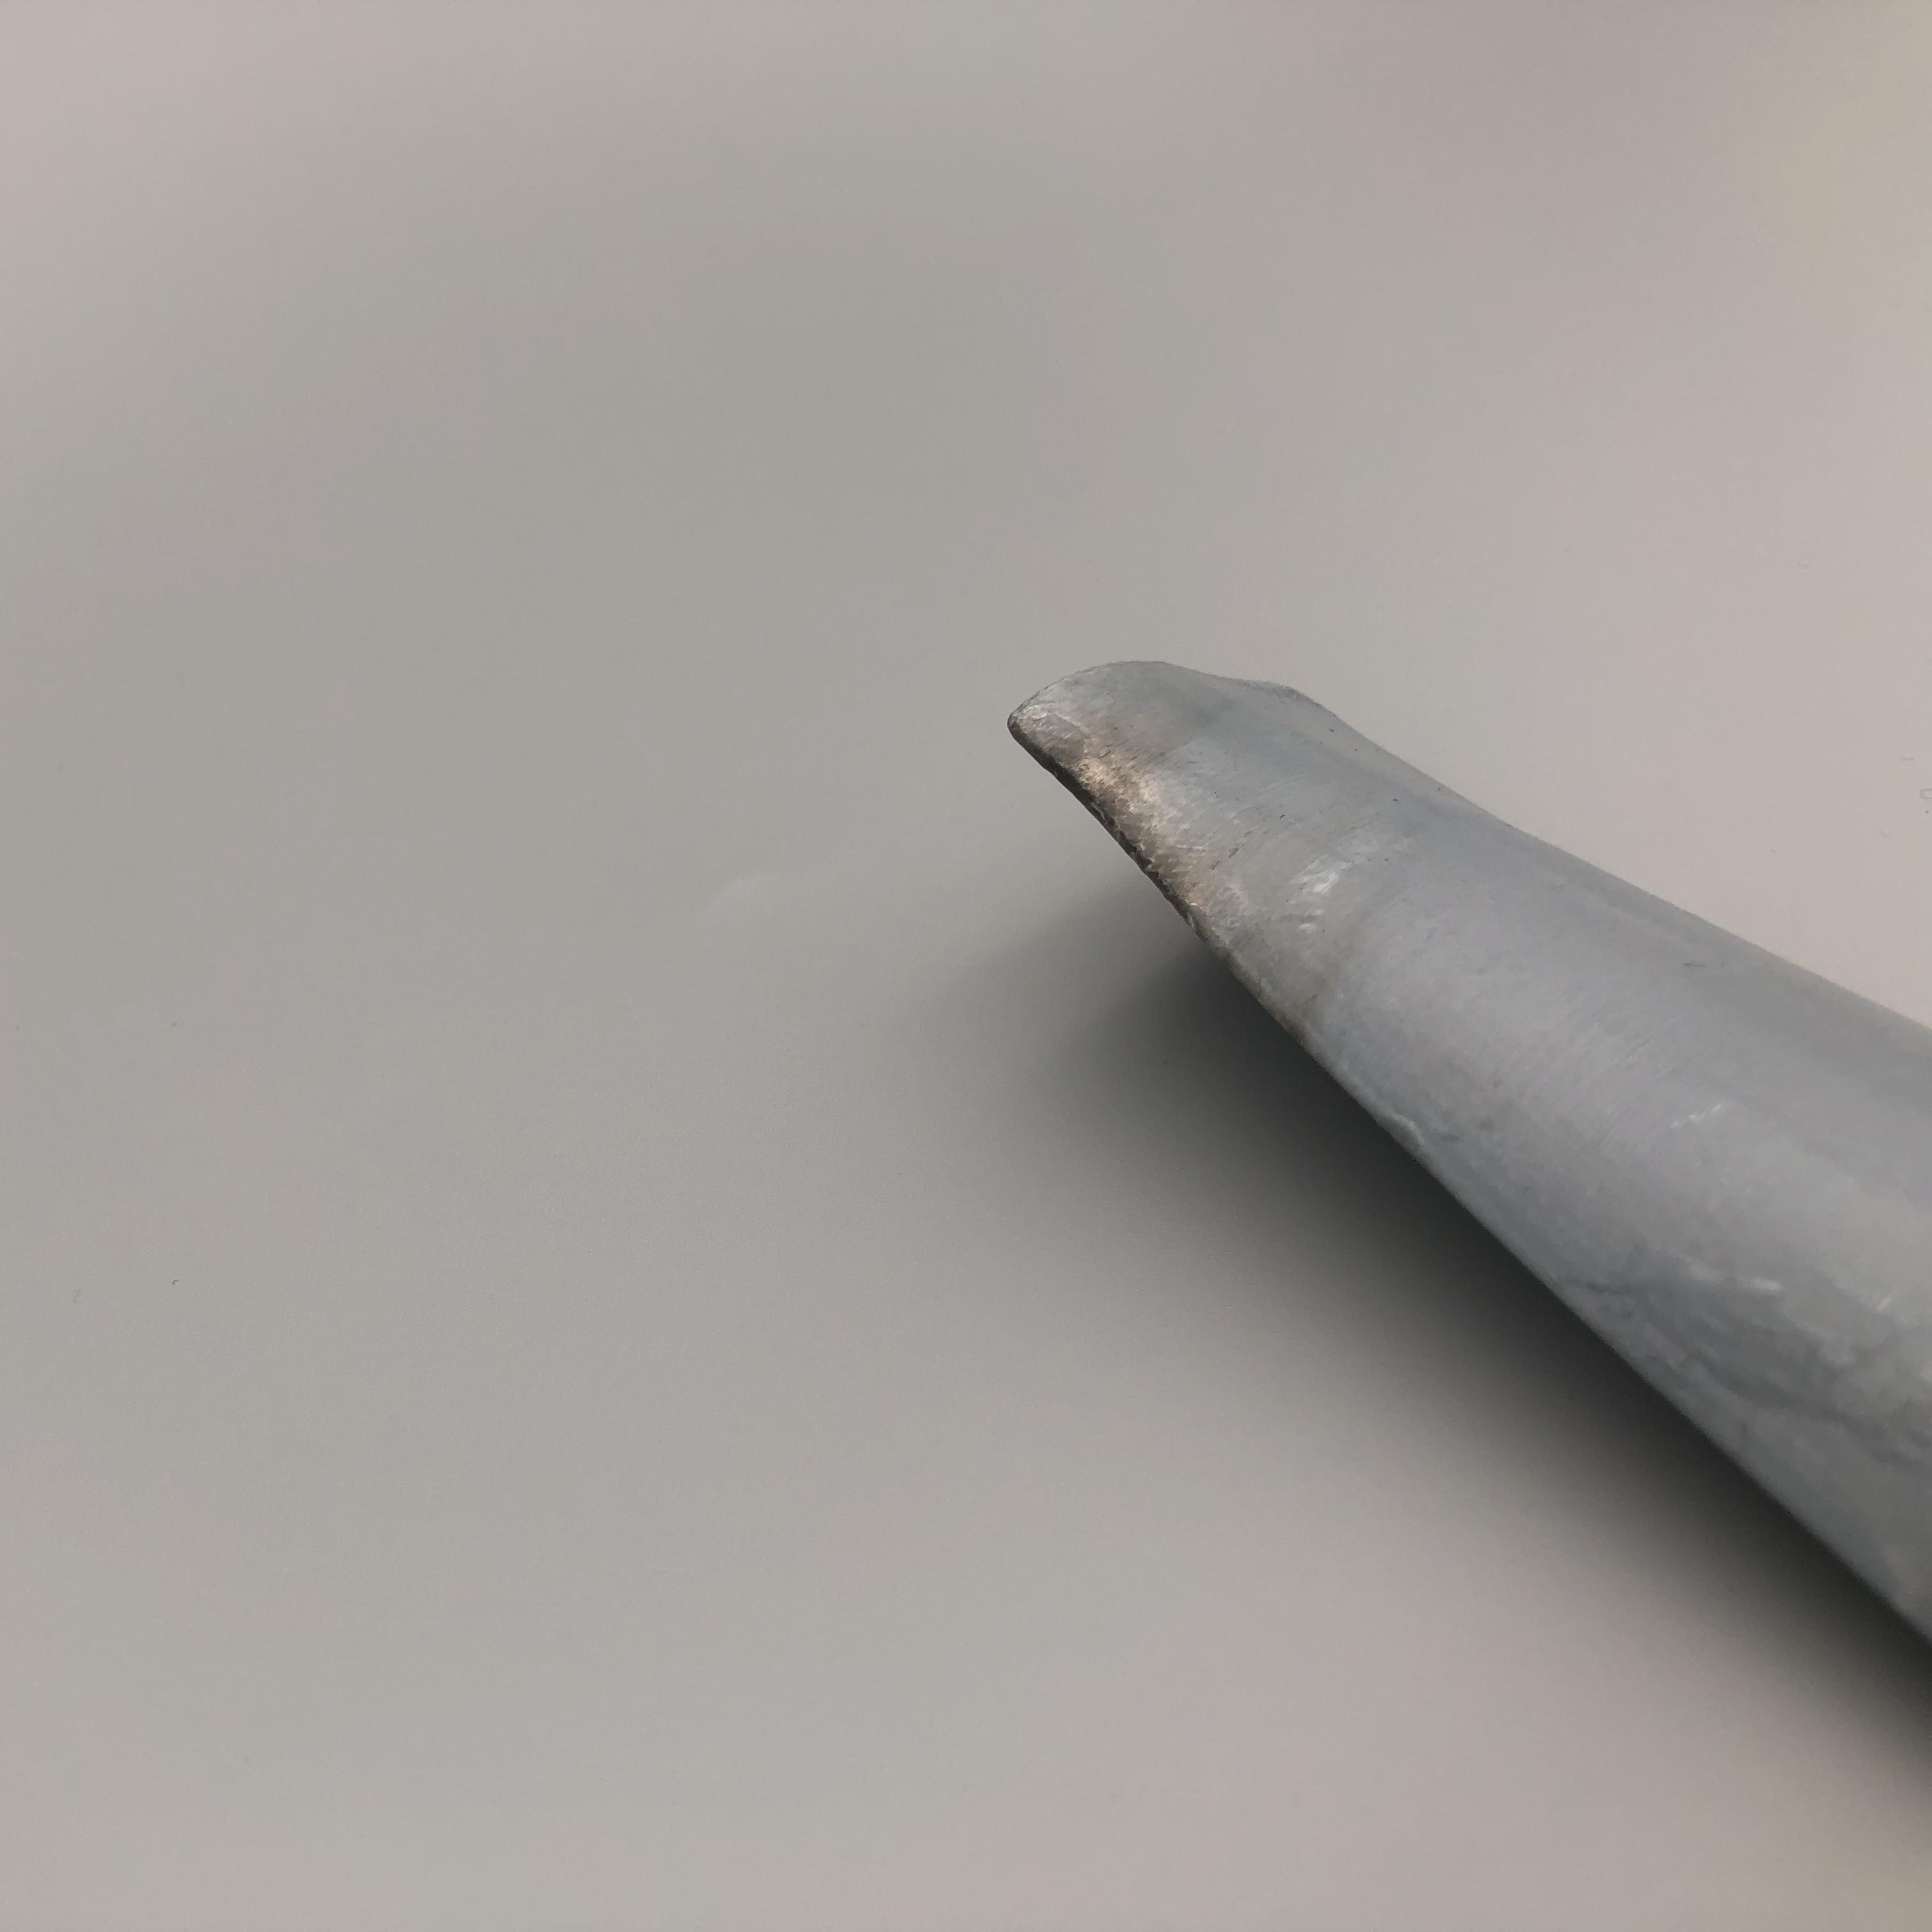ablation: (1014, 720, 1272, 971)
